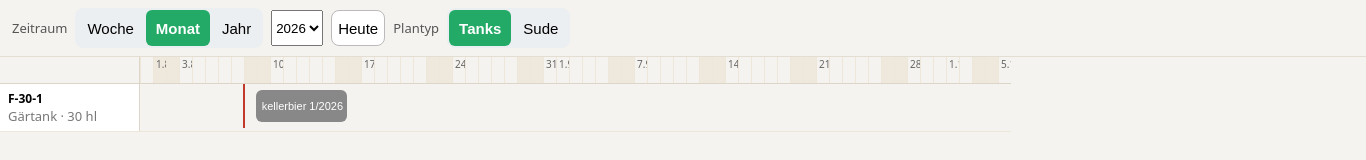
Test: Zeitplan (Toolbar-Gruppen + Jahresauswahl) › Jahresauswahl listet die Jahre der Daten; Vorjahr zeigt dessen Sude
This screenshot has width=1366, height=160.
# 2025 + Jahresansicht: der historische Block ist da, der aktuelle nicht.
Select "2025" in the dropdown named "Jahr" at (297, 28), box [271,10,323,46]
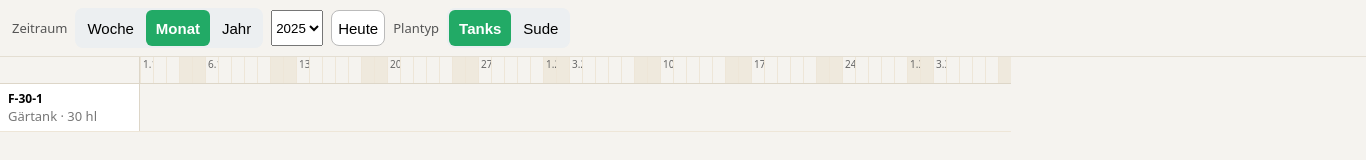
Click the button "Jahr" at (237, 28), box [212,10,261,46]
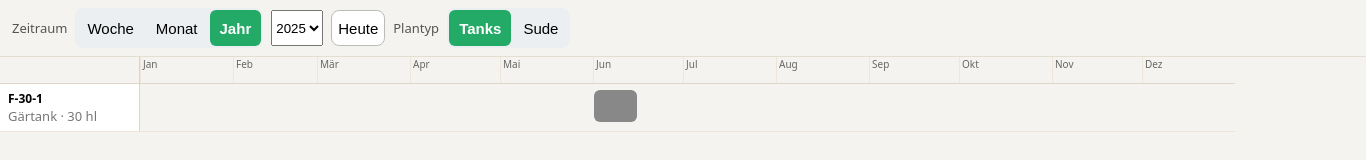
Result: the number of buttons named "kellerbier 1/2025" is 1 at [594,90,636,122]
